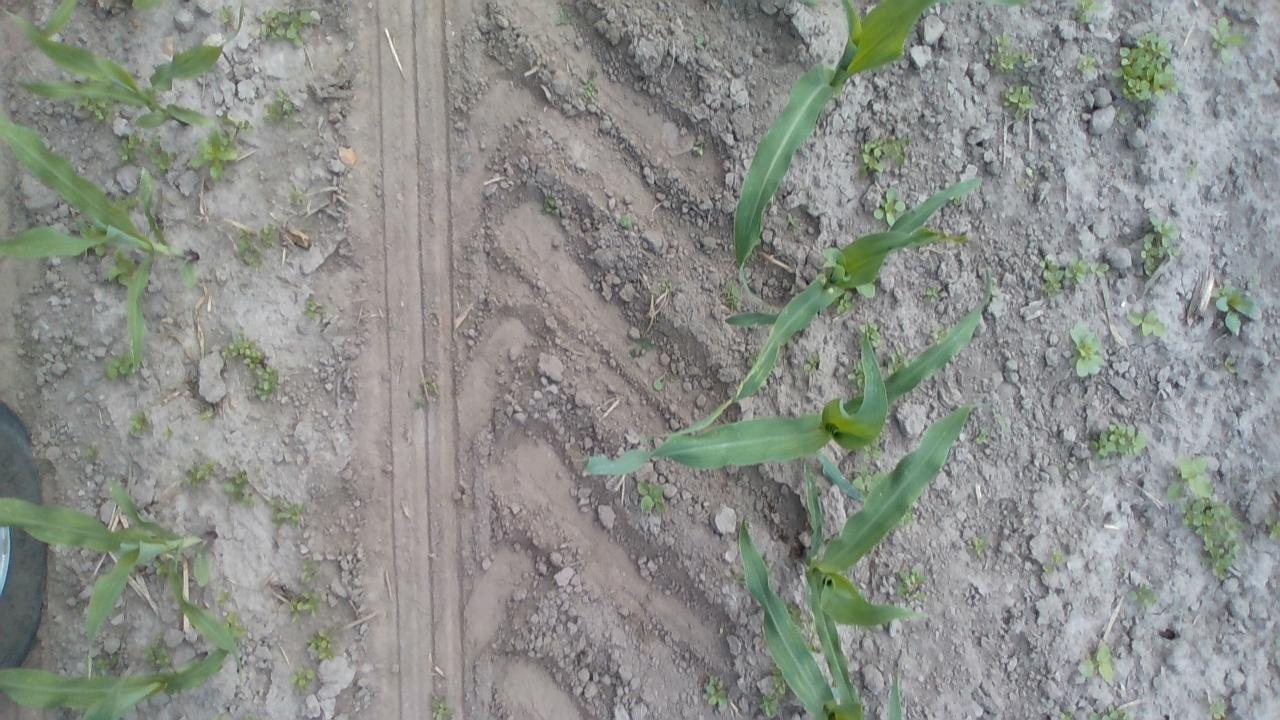Maize: (580, 253, 991, 504), (637, 177, 982, 441), (734, 0, 1030, 304), (798, 403, 1006, 720), (0, 107, 201, 369), (0, 476, 247, 682), (738, 512, 903, 720), (0, 0, 244, 127), (0, 613, 236, 720), (35, 0, 189, 41)
Weeds: (1182, 496, 1246, 578), (1111, 30, 1180, 100), (1212, 283, 1262, 334), (191, 128, 238, 180), (1140, 216, 1180, 276), (258, 6, 314, 48), (856, 133, 910, 175), (1068, 320, 1106, 378), (1090, 422, 1147, 460), (1166, 456, 1213, 500), (219, 327, 262, 369), (1208, 17, 1246, 64), (1076, 642, 1116, 684), (144, 132, 178, 178), (262, 88, 298, 130), (74, 216, 108, 256), (872, 187, 905, 228), (989, 31, 1020, 74), (1002, 83, 1038, 120), (269, 496, 308, 530), (71, 96, 116, 125), (896, 566, 930, 602), (1126, 308, 1168, 337), (248, 364, 280, 402), (142, 632, 172, 672), (106, 248, 137, 286), (234, 228, 262, 268), (288, 592, 322, 624), (1040, 253, 1064, 298), (306, 625, 336, 661), (102, 348, 136, 379), (410, 375, 440, 410), (184, 458, 218, 488), (636, 480, 666, 514), (701, 674, 728, 710), (851, 466, 888, 492), (112, 134, 142, 165), (222, 468, 248, 502), (1126, 584, 1158, 611), (846, 358, 866, 397), (1088, 704, 1132, 720), (768, 663, 790, 695), (857, 322, 883, 348), (886, 350, 912, 376), (290, 667, 316, 693), (626, 336, 654, 360), (720, 280, 741, 310), (756, 693, 781, 718), (1064, 258, 1088, 284), (786, 600, 805, 632), (127, 412, 151, 437), (1074, 0, 1100, 23), (259, 220, 280, 248), (831, 290, 854, 315), (113, 194, 140, 215), (862, 432, 882, 460), (301, 555, 319, 582), (431, 698, 453, 720), (805, 612, 822, 640), (151, 557, 172, 579), (1206, 696, 1225, 719), (1076, 52, 1096, 72), (299, 296, 317, 318), (1016, 167, 1034, 189), (91, 653, 108, 676), (971, 536, 990, 556), (288, 182, 303, 206), (1265, 516, 1280, 539), (899, 507, 917, 526), (1090, 260, 1109, 278), (540, 196, 557, 216), (934, 322, 948, 346), (582, 79, 598, 98), (218, 4, 234, 22), (1020, 50, 1036, 68), (786, 212, 800, 232), (804, 355, 822, 370), (923, 286, 942, 300), (974, 426, 989, 443), (225, 610, 240, 627), (1184, 160, 1198, 178), (1224, 355, 1238, 373), (805, 642, 824, 655), (237, 119, 256, 132), (214, 588, 230, 603), (1050, 547, 1064, 564), (218, 110, 234, 124), (559, 9, 572, 25), (732, 572, 746, 586), (618, 214, 631, 229), (694, 34, 707, 49), (162, 424, 174, 440), (240, 494, 255, 506), (693, 140, 704, 156), (198, 411, 214, 422), (84, 444, 96, 458), (948, 194, 962, 206), (653, 376, 665, 390), (661, 279, 673, 292), (1059, 711, 1076, 720), (108, 654, 119, 665), (1042, 563, 1054, 573), (799, 0, 818, 6), (1115, 109, 1125, 120), (748, 355, 758, 365), (244, 712, 256, 720), (528, 369, 536, 376)
